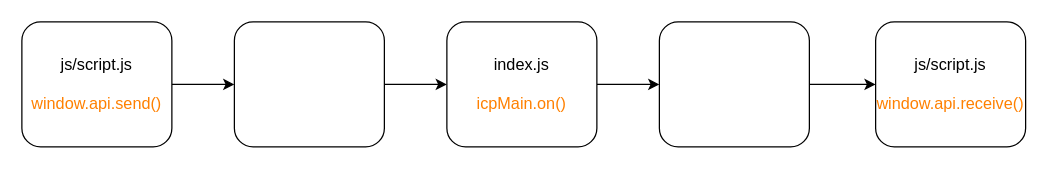
Image size: 1048x169. Some labels were removed from this diagram. Each missing label, with the centre of its shape:
preload.js receive(): [733,84]
preload.js send(): [308,84]
